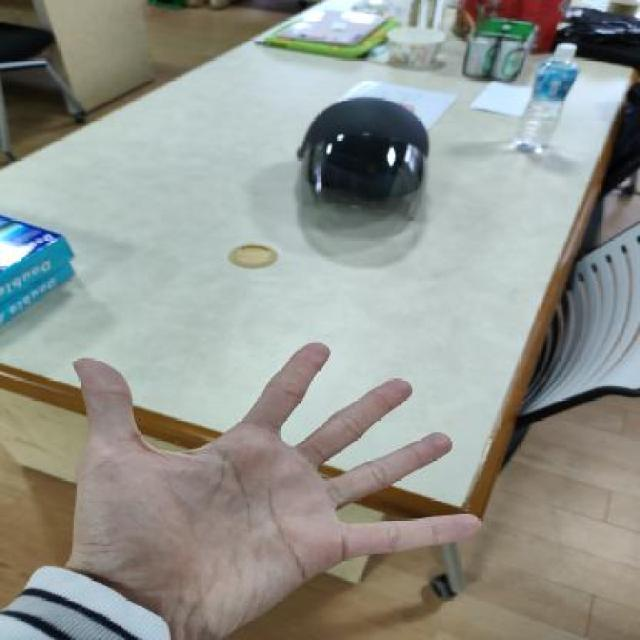bare_hand: (39, 318, 498, 631)
